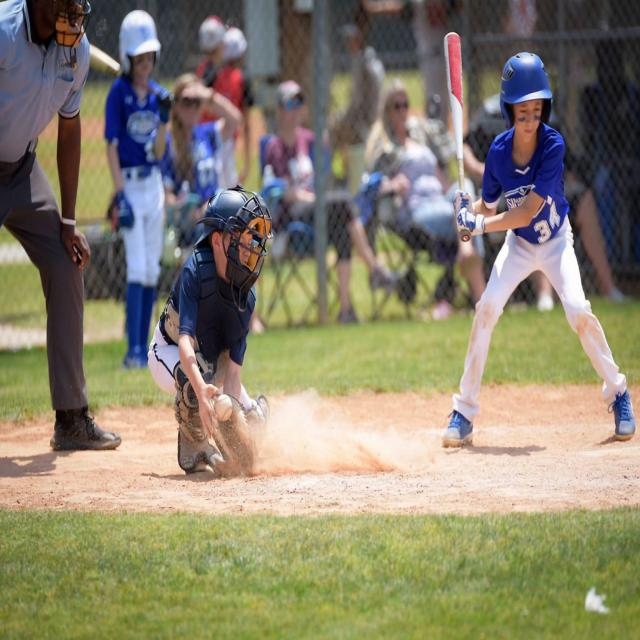baseball: (214, 393, 232, 424)
